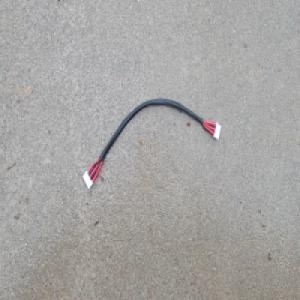Wire: (80, 95, 223, 192)
